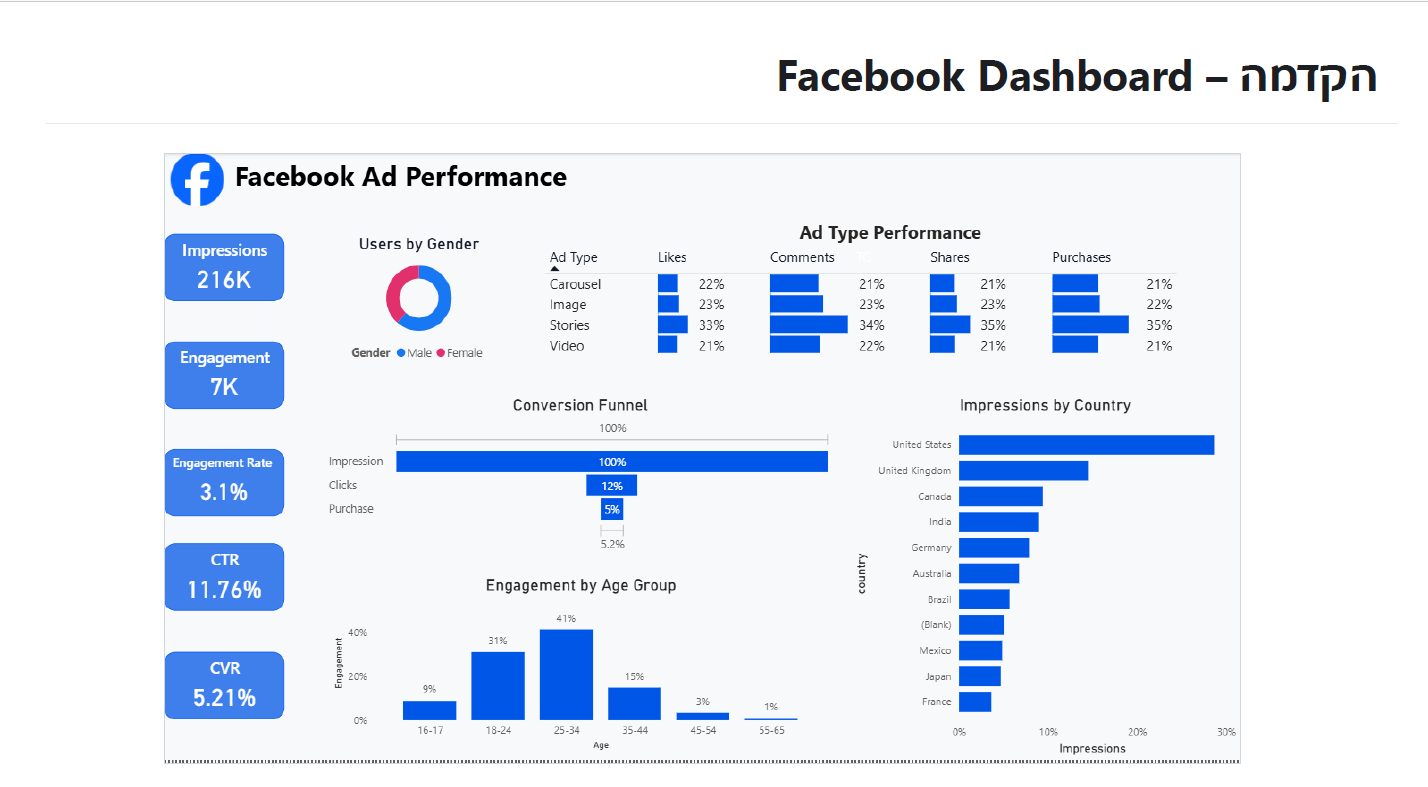

What the dashboard file says about the page in this screenshot:
{"tool":"powerbi","page":{"name":"Facebook","canvas":[1280,720],"ordinal":0},"visuals":[{"type":"textbox","box":[80,0,416,64],"z":0},{"type":"donutChart","title":"Users by Gender","fields":{"Category":["Dim.users.user_gender"],"Y":["CountNonNull(Dim.users.user_id)"]},"box":[128,96,352,160],"z":1000},{"type":"card","title":"Impressions","fields":{"Values":["Measures Table.Impression"]},"box":[0,96,144,80],"z":2000},{"type":"card","title":"Engagement","fields":{"Values":["Measures Table.KPI - Engaged Users"]},"box":[0,224,144,80],"z":3000},{"type":"barChart","title":"Impressions by Country","fields":{"Category":["Dim.users.country"],"Y":["Measures Table.Impression"]},"box":[816,288,464,432],"z":4000},{"type":"card","title":"CTR","fields":{"Values":["Measures Table.CTR (Click Through Rate)"]},"box":[0,464,144,80],"z":5000},{"type":"card","title":"Engagement Rate","fields":{"Values":["Measures Table.KPI - Engagement Rate"]},"box":[0,352,144,80],"z":6000},{"type":"image","box":[0,0,80,64],"z":7000},{"type":"card","title":"CVR","fields":{"Values":["Measures Table.CVR(Conversion Rate)"]},"box":[0,592,144,80],"z":8000},{"type":"columnChart","title":"Engagement by Age Group","fields":{"Category":["Dim.users.age_group"],"Y":["Measures Table.KPI - Engaged Users"]},"box":[192,496,608,224],"z":9000},{"type":"funnel","title":"Conversion Funnel","fields":{"Y":["Measures Table.% Funnel 1 - Total Impression","Measures Table.% Funnel 2 - Total Clicks","Measures Table.% Funnel 3 - Total Purchase"]},"box":[192,288,608,192],"z":10000},{"type":"tableEx","title":"Ad Type Performance","fields":{"Values":["Dim.ads.ad_type","Measures Table.Empty","Divide(Measures Table.Likes, ScopedEval(Measures Table.Likes, []))","Measures Table.TG Likes","Measures Table.Empty","Divide(Measures Table.Comments, ScopedEval(Measures Table.Comments, []))","Measures Table.TG Comments","Measures Table.Empty","Divide(Measures Table.Shares, ScopedEval(Measures Table.Shares, []))","Measures Table.TG Shares","Measures Table.Empty","Divide(Measures Table.Purchases, ScopedEval(Measures Table.Purchases, []))"]},"box":[448,80,832,192],"z":11000}]}

Visuals, with their boxes in screenshot pixels (x1, y1, x2, y2), scaled from the page's 1280x720 canvas onto the 1428x787 screenshot:
textbox: 89,0,553,70
"Users by Gender" donutChart: 143,105,536,280
"Impressions" card: 0,105,161,192
"Engagement" card: 0,245,161,332
"Impressions by Country" barChart: 910,315,1427,786
"CTR" card: 0,507,161,595
"Engagement Rate" card: 0,385,161,472
image: 0,0,89,70
"CVR" card: 0,647,161,735
"Engagement by Age Group" columnChart: 214,542,893,786
"Conversion Funnel" funnel: 214,315,893,525
"Ad Type Performance" tableEx: 500,87,1427,297
